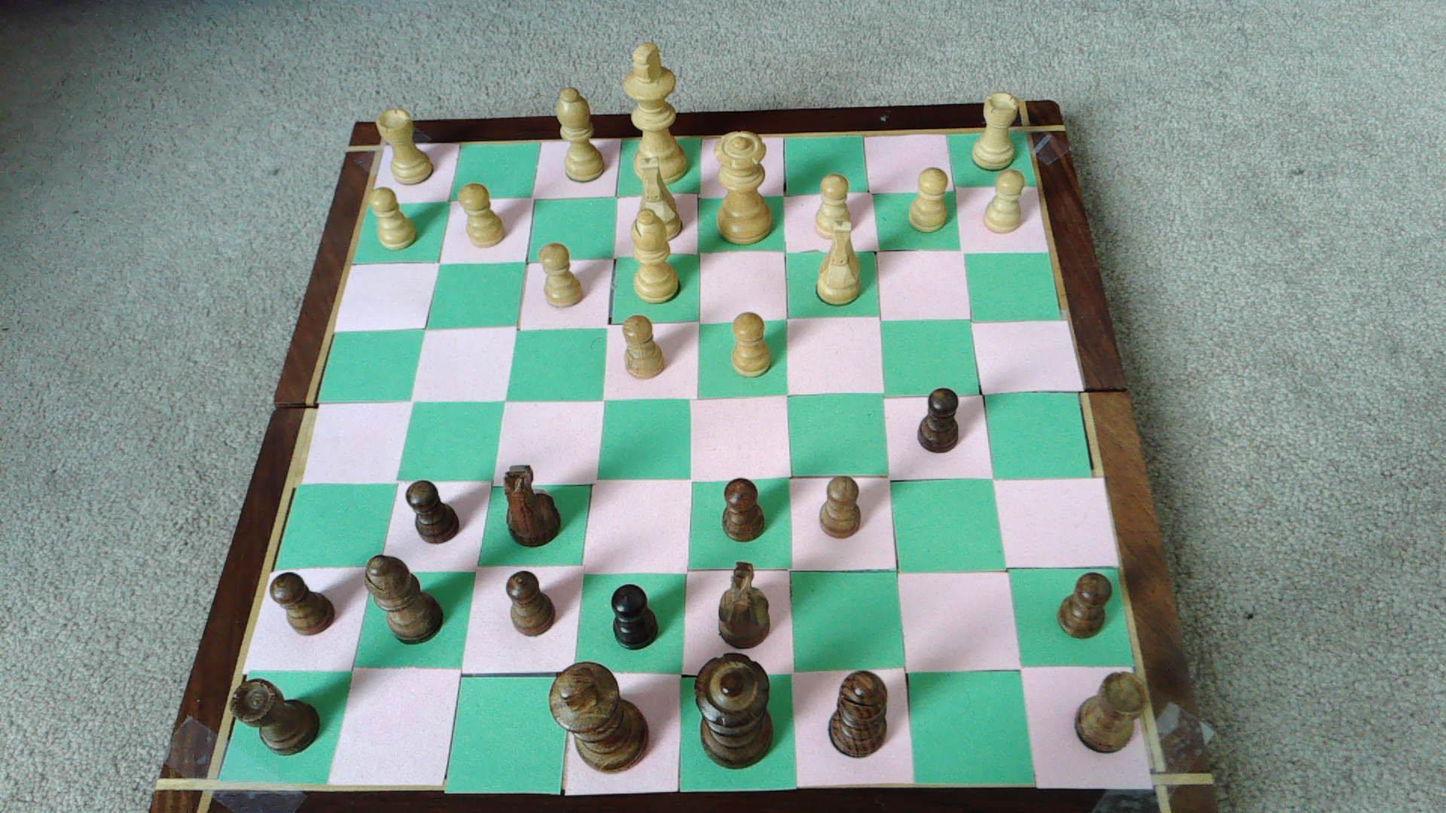dark_piece: (551, 662, 648, 770), (695, 654, 772, 766), (365, 556, 443, 643), (232, 679, 319, 754), (1076, 672, 1147, 752), (829, 671, 887, 757), (503, 464, 560, 547), (718, 562, 770, 648), (270, 572, 335, 634), (1058, 572, 1110, 638), (406, 481, 460, 542), (506, 571, 555, 635), (611, 584, 659, 649), (722, 478, 765, 541), (918, 387, 958, 452), (819, 477, 860, 537)
white_piece: (622, 40, 689, 183), (715, 133, 773, 245), (632, 150, 684, 243), (555, 87, 604, 181), (377, 108, 435, 185), (631, 212, 680, 303), (972, 91, 1019, 171), (816, 228, 861, 305), (458, 183, 507, 247), (370, 187, 417, 250), (540, 242, 585, 307), (623, 315, 666, 378), (908, 167, 949, 232), (984, 170, 1026, 233), (731, 312, 772, 376), (814, 174, 854, 239)
